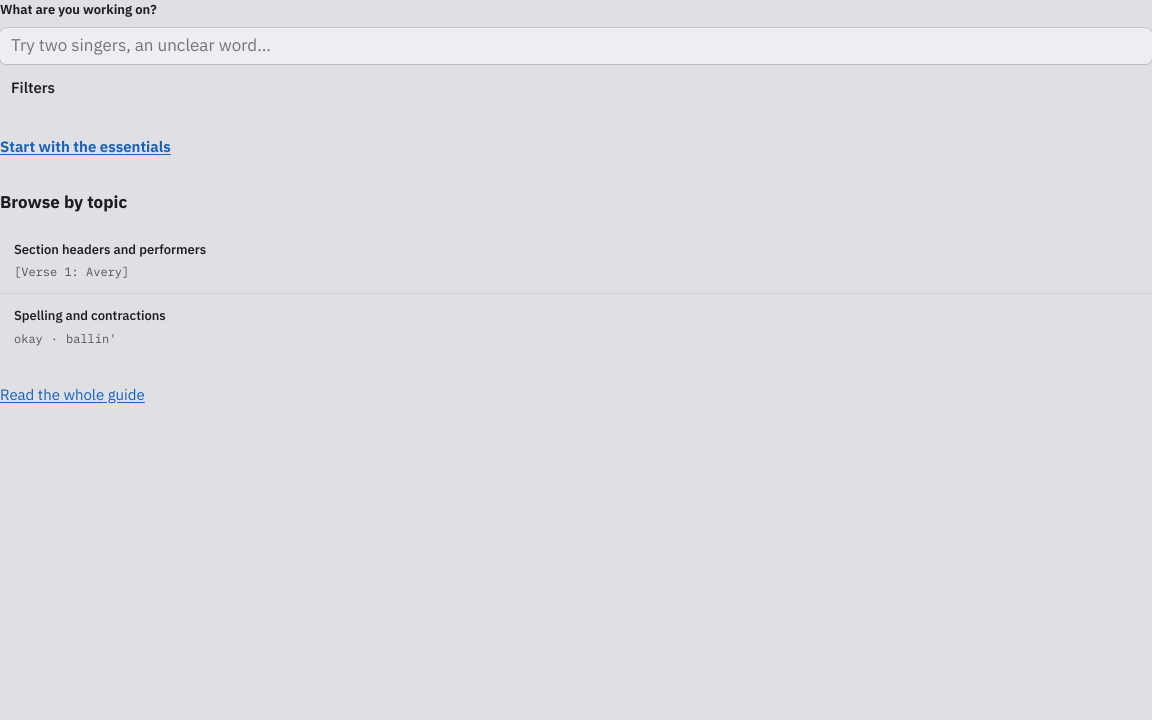
ReferenceIndex › shows answer previews and keeps related checks available without duplicating results
In the search field: point(576, 46) [0,28,1151,64], type "two singers"
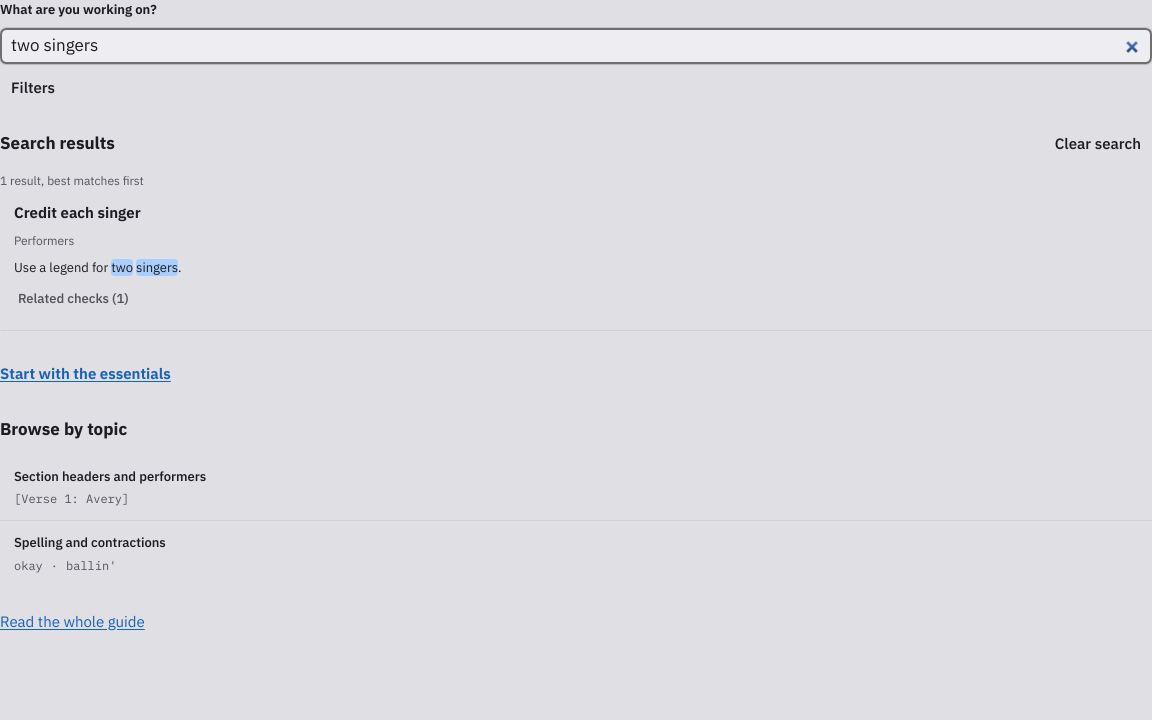
Result: the number of list items with class "reference-result" is 1 at [0,202,1151,330]
Result: the element with class "reference-description" shows "two singers" at [14,259,182,276]
Click the heading "Related checks (1)": point(73, 300) [14,286,133,314]
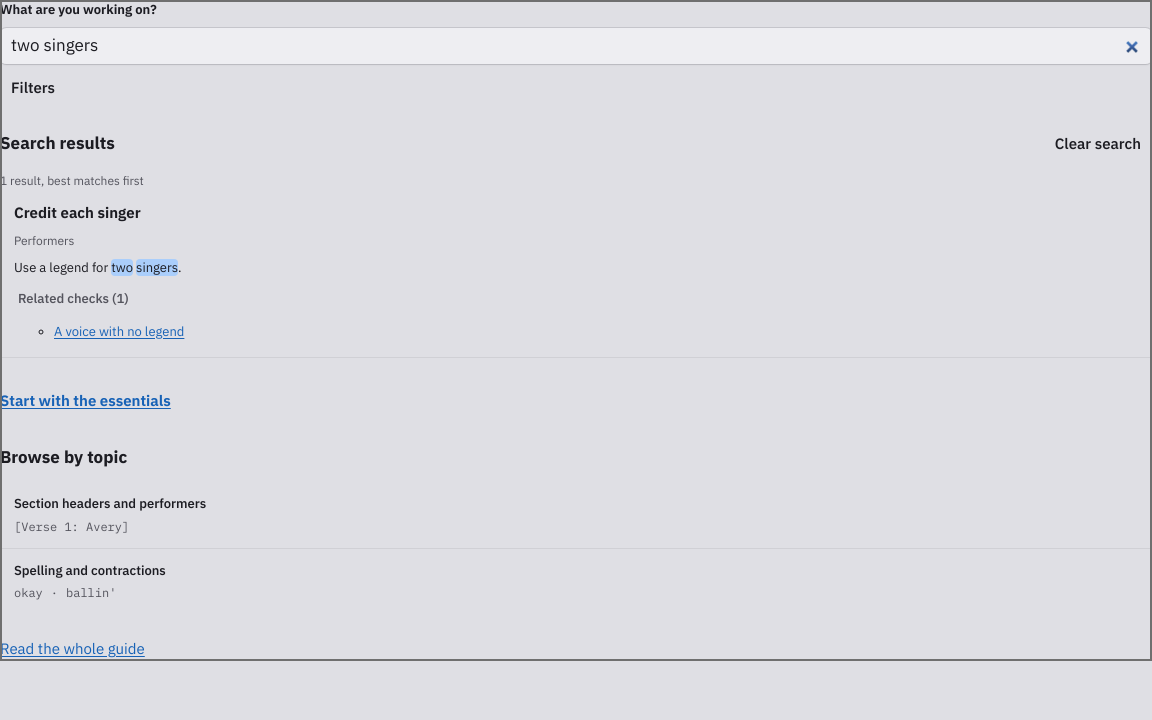
Expected: the navigation bar named "Browse reference topics" is shown, [0,390,1151,660]
Result: the link "A voice with no legend" is shown at [54,322,184,340]
